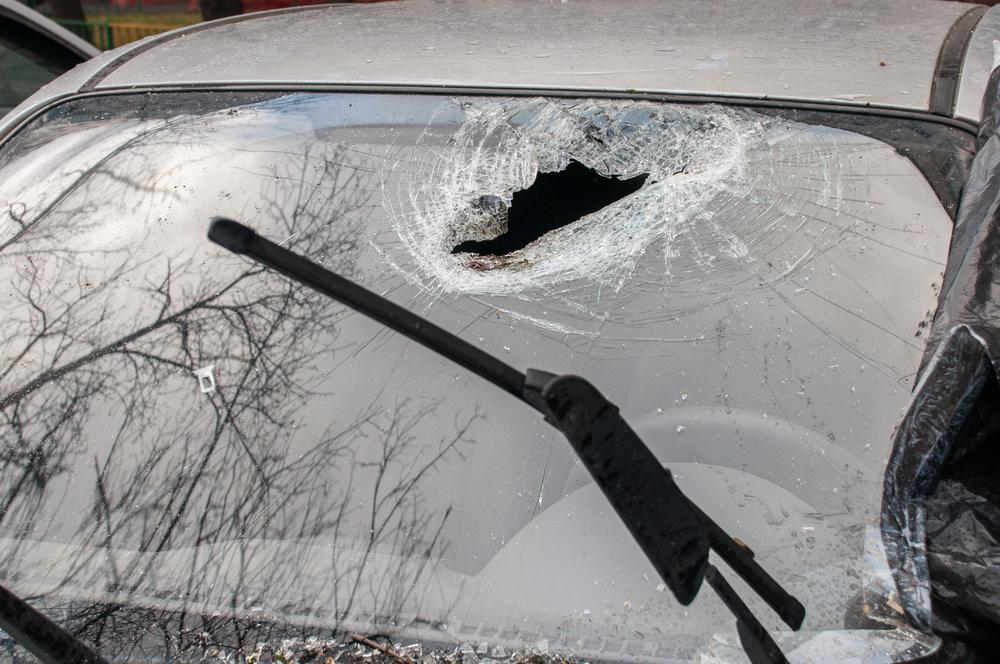glass shatter: (0, 90, 976, 664)
